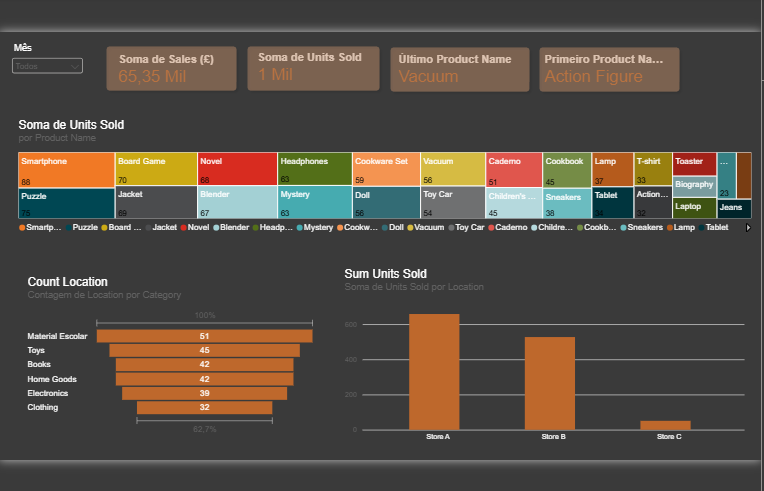

This screenshot's page, from the dashboard's own definition file:
{"tool":"powerbi","page":{"name":"Métricas vendas","canvas":[1280,720],"ordinal":0},"visuals":[{"type":"clusteredColumnChart","fields":{"Category":["Consulta.Location"],"Y":["Sum(Consulta.Units Sold)"]},"box":[564.4,381.3,703.8,325.9],"z":0},{"type":"funnel","fields":{"Category":["Consulta.Category"],"Y":["CountNonNull(Consulta.Location)"]},"box":[31.9,394.8,515.7,297.3],"z":1000},{"type":"treemap","fields":{"Group":["Consulta.Product Name"],"Values":["Sum(Consulta.Units Sold)"]},"box":[16.8,131,1263.2,228.5],"z":2000},{"type":"slicer","fields":{"Values":["Consulta.Transaction Date.Variation.Hierarquia de datas.Mês"]},"box":[16.8,18.5,129.3,94.1],"z":3000},{"type":"cardVisual","fields":{"Data":["Min(Consulta.Product Name)"]},"box":[900.4,8.4,236.9,112.5],"z":4000},{"type":"cardVisual","fields":{"Data":["Max(Consulta.Product Name)"]},"box":[655.1,8.4,236.9,112.5],"z":5000},{"type":"cardVisual","fields":{"Data":["Sum(Consulta.Units Sold)"]},"box":[430,8.4,236.9,112.5],"z":6000},{"type":"cardVisual","fields":{"Data":["Sum(Consulta.Sales (£))"]},"box":[184.8,8.4,236.9,112.5],"z":7000},{"type":"shape","box":[171.3,15.1,236.9,92.4],"z":8000},{"type":"shape","box":[408.2,16.8,240.2,92.4],"z":8001},{"type":"shape","box":[648.4,16.8,252,92.4],"z":8002},{"type":"shape","box":[898.7,16.8,253.6,92.4],"z":8003}]}

Visuals, with their boxes on the page's 1280x720 design canvas (x1, y1, x2, y2). These are canvas units, not pixel positions in the 764x491 screenshot, which may show the page scaled, cropped or inside an application window:
clusteredColumnChart - Consulta.Location x Sum(Consulta.Units Sold): box=[564, 381, 1268, 707]
funnel - Consulta.Category x CountNonNull(Consulta.Location): box=[32, 395, 548, 692]
treemap - Consulta.Product Name x Sum(Consulta.Units Sold): box=[17, 131, 1280, 360]
slicer - Consulta.Transaction Date.Variation.Hierarquia de datas.Mês: box=[17, 18, 146, 113]
cardVisual - Min(Consulta.Product Name): box=[900, 8, 1137, 121]
cardVisual - Max(Consulta.Product Name): box=[655, 8, 892, 121]
cardVisual - Sum(Consulta.Units Sold): box=[430, 8, 667, 121]
cardVisual - Sum(Consulta.Sales (£)): box=[185, 8, 422, 121]
shape: box=[171, 15, 408, 108]
shape: box=[408, 17, 648, 109]
shape: box=[648, 17, 900, 109]
shape: box=[899, 17, 1152, 109]
